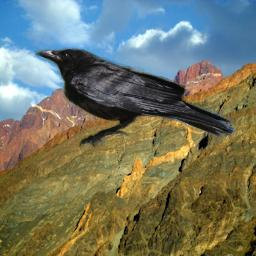Crow: (35, 47, 235, 149)
